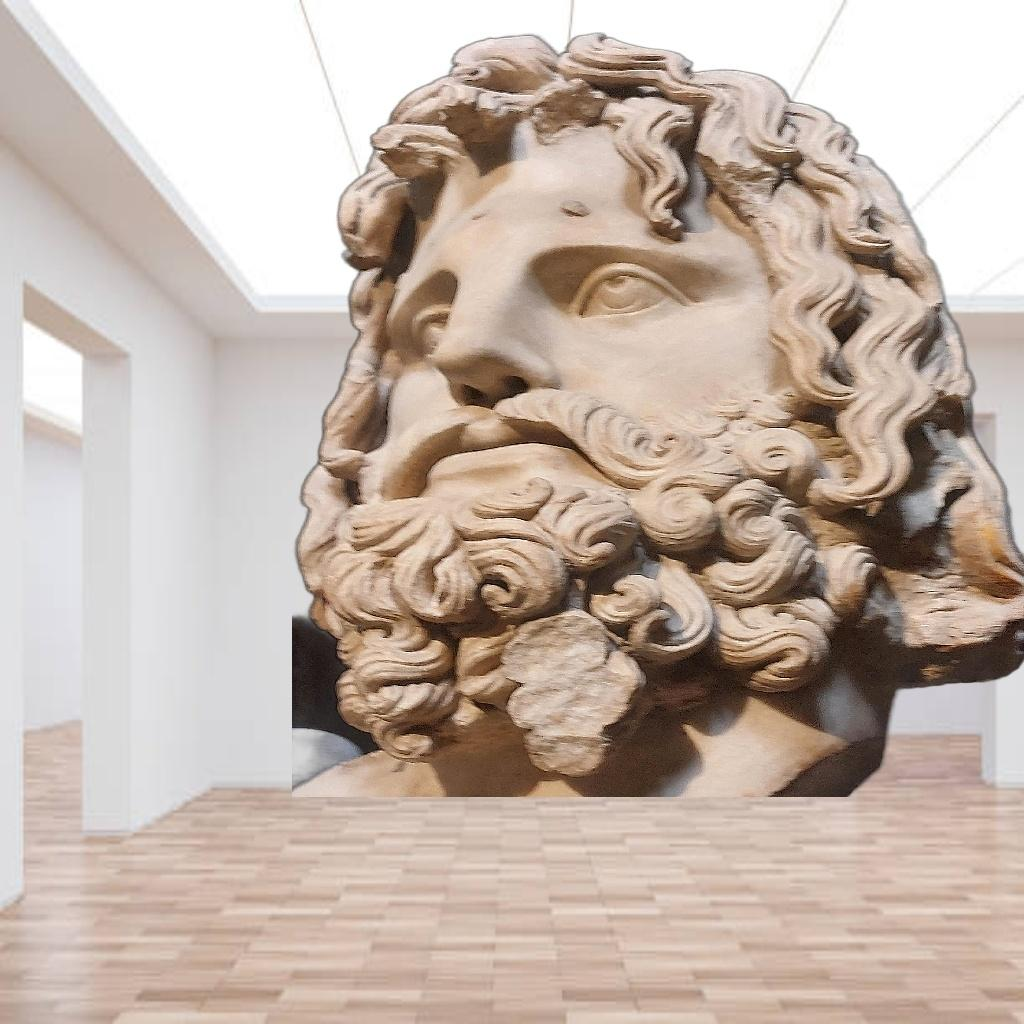Clossal Head of the god Serapis: (292, 32, 1024, 797)
